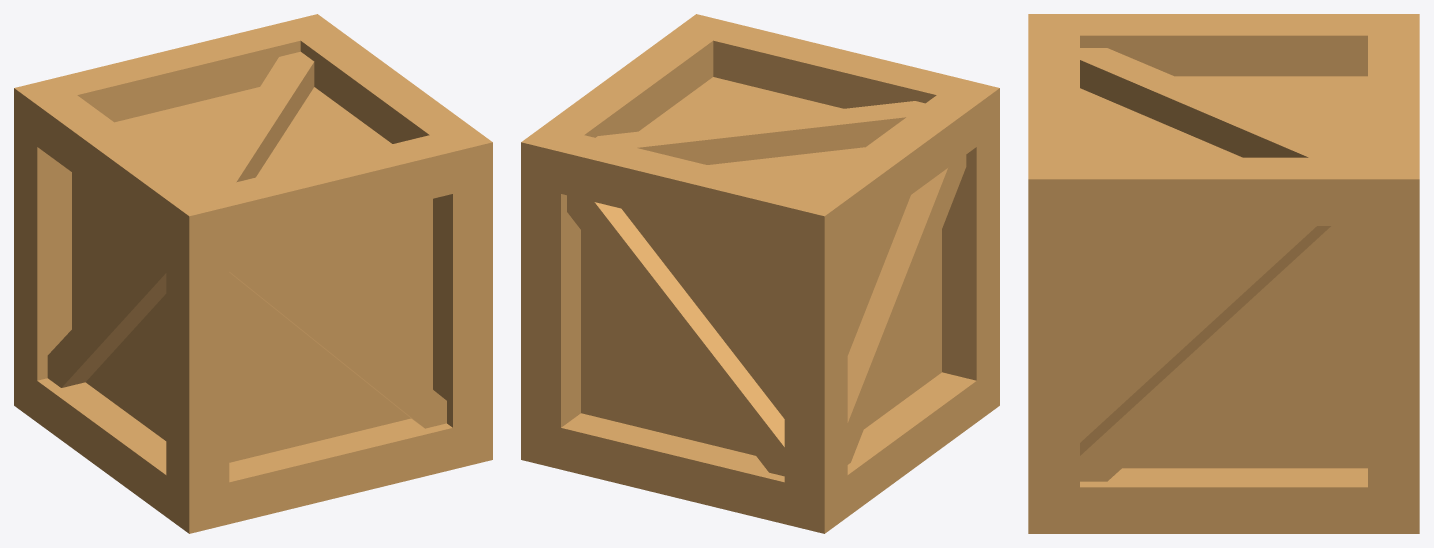
The model's file is crate.fbx.
3 renders of one model, left to right at view 1: azimuth 30°, elevation 25°; view 2: azimuth 150°, elevation 25°; view 3: azimuth 270°, elevation 25°, orthographic. The views are drawn at different scales.
Parts seen in each view (by area): view 1: Cube.001; view 2: Cube.001; view 3: Cube.001.
Part boxes in pixels (x1,y1,x2,y2): Cube.001: (14,14,492,533); Cube.001: (521,14,999,533); Cube.001: (1028,14,1419,533).
Size of the model in its own units: 563 by 563 by 563.
